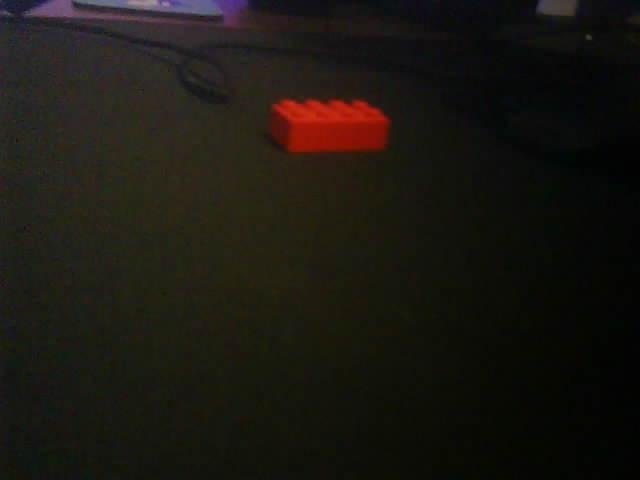lego: (267, 98, 391, 155)
